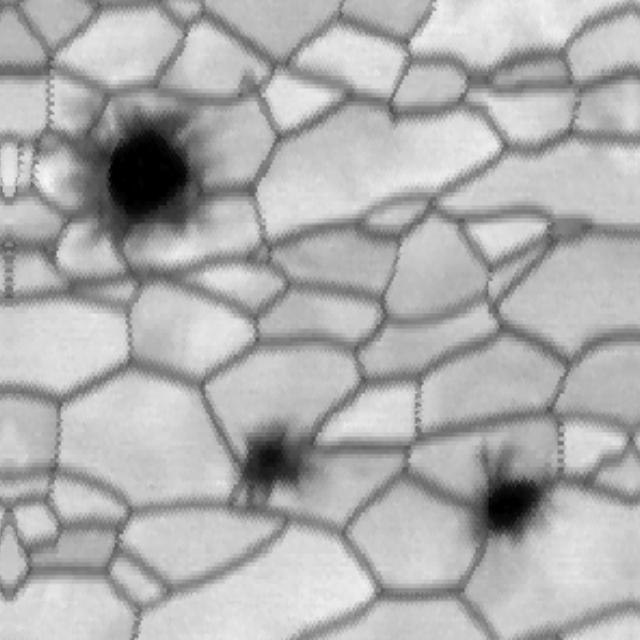good_void: (58, 93, 233, 252), (218, 395, 317, 516), (461, 446, 561, 552)
